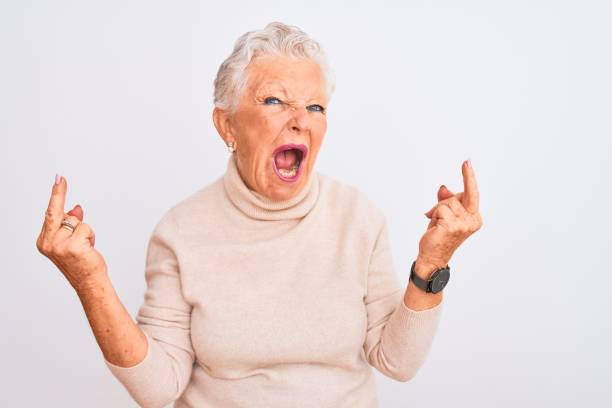insulting_gesture: (36, 167, 111, 279), (409, 161, 484, 265)
